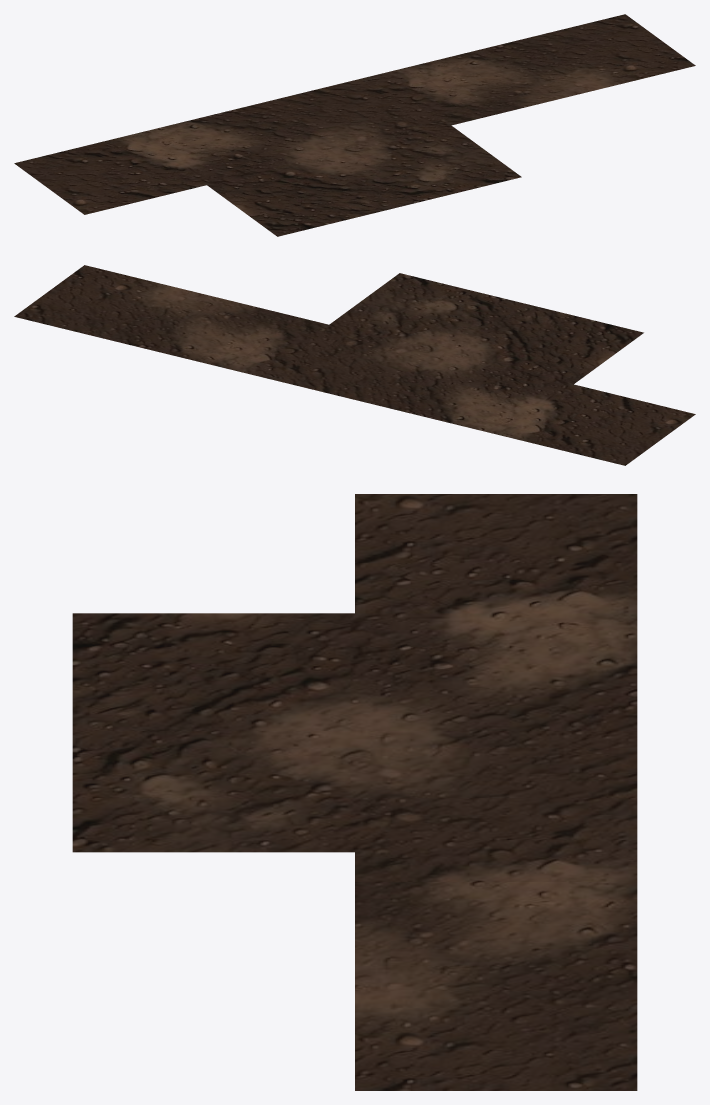
The model's file is floor_1_-6.glb.
3 renders of one model, top to bottom at view 1: azimuth 30°, elevation 25°; view 2: azimuth 150°, elevation 25°; view 3: azimuth 270°, elevation 25°, orthographic. The views are drawn at different scales.
Visible parts, largest first — view 1: floor_1_-6; view 2: floor_1_-6; view 3: floor_1_-6.
Boxes of the visible parts, x1,y1,x2,y2 form: floor_1_-6: [14, 14, 695, 236]; floor_1_-6: [14, 265, 695, 465]; floor_1_-6: [72, 494, 637, 1090].
Bounding box in the file's own units: 20 × 0 × 8.
Materials: 1 (1 with a texture image).
